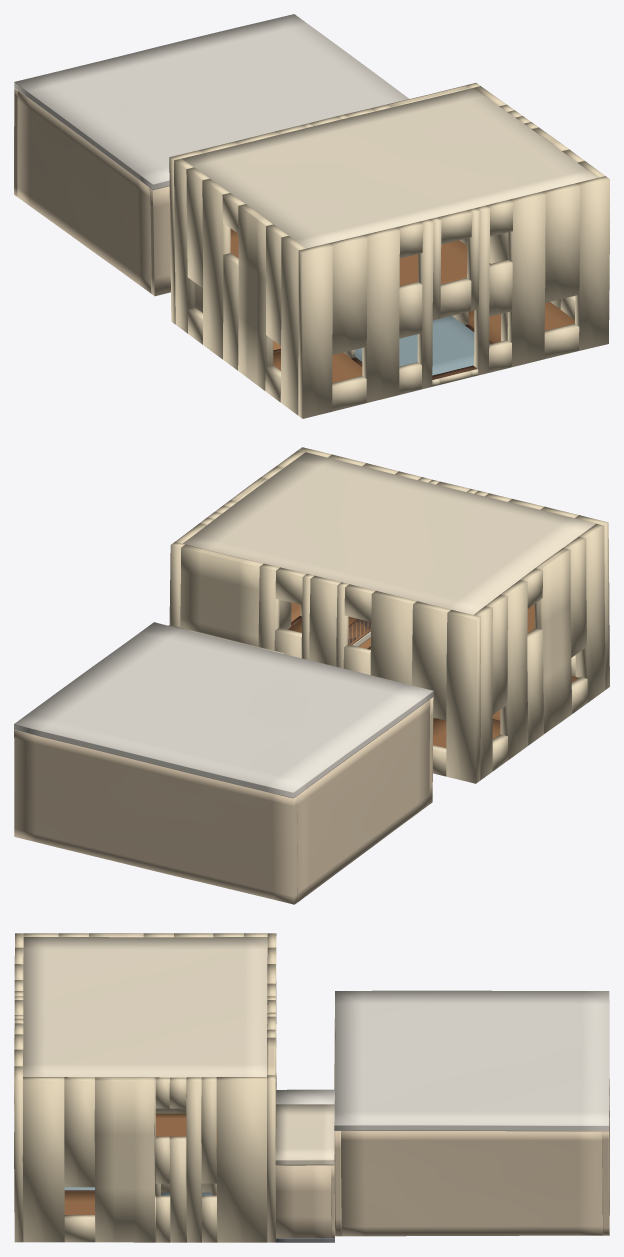
The model's file is Museum_Int_Structure.fbx.
The picture shows the model from 3 angles, top to bottom: view 1: azimuth 30°, elevation 25°; view 2: azimuth 150°, elevation 25°; view 3: azimuth 270°, elevation 25°; orthographic projection.
Visible parts, largest first — view 1: Int_Shell_Walls, Int_Wing_Shell, Int_Slabs, Int_GF_Floors, Int_UF_Floors, Int_UF_Partitions; view 2: Int_Wing_Shell, Int_Shell_Walls, Int_Slabs, Int_UF_Floors, Int_GF_Floors; view 3: Int_Wing_Shell, Int_Shell_Walls, Int_Slabs, Int_Annex_Shell, Int_GF_Floors, Int_UF_Floors.
Boxes of the visible parts, <box> form: Int_Shell_Walls: <box>169,83,609,418</box>; Int_Wing_Shell: <box>14,14,408,296</box>; Int_Slabs: <box>182,88,597,248</box>; Int_GF_Floors: <box>202,302,574,382</box>; Int_UF_Floors: <box>230,228,490,285</box>; Int_UF_Partitions: <box>459,232,508,263</box>; Int_Wing_Shell: <box>14,622,433,904</box>; Int_Shell_Walls: <box>169,447,609,783</box>; Int_Slabs: <box>183,452,595,646</box>; Int_UF_Floors: <box>288,602,534,644</box>; Int_GF_Floors: <box>359,638,578,747</box>; Int_Wing_Shell: <box>276,990,609,1236</box>; Int_Shell_Walls: <box>14,933,276,1242</box>; Int_Slabs: <box>23,937,267,1077</box>; Int_Annex_Shell: <box>275,1104,334,1242</box>; Int_GF_Floors: <box>64,1187,211,1215</box>; Int_UF_Floors: <box>155,1113,216,1143</box>.
Bounding box in the file's own units: 16.09 × 8.22 × 27.36.
